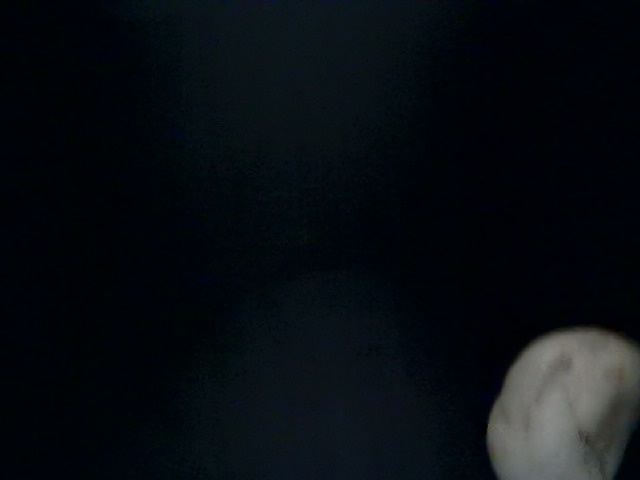QTLJ: (415, 253, 594, 422)
